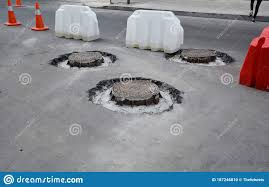Manhole-Closed: (91, 72, 196, 123), (164, 45, 239, 68), (49, 47, 118, 71)
